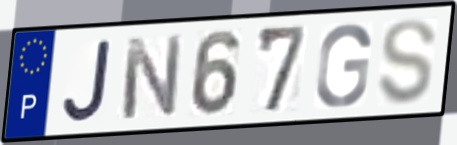6: (188, 27, 244, 120)
7: (255, 24, 311, 116)
G: (313, 21, 374, 110)
J: (60, 36, 115, 124)
N: (119, 33, 185, 123)
S: (374, 16, 439, 108)
